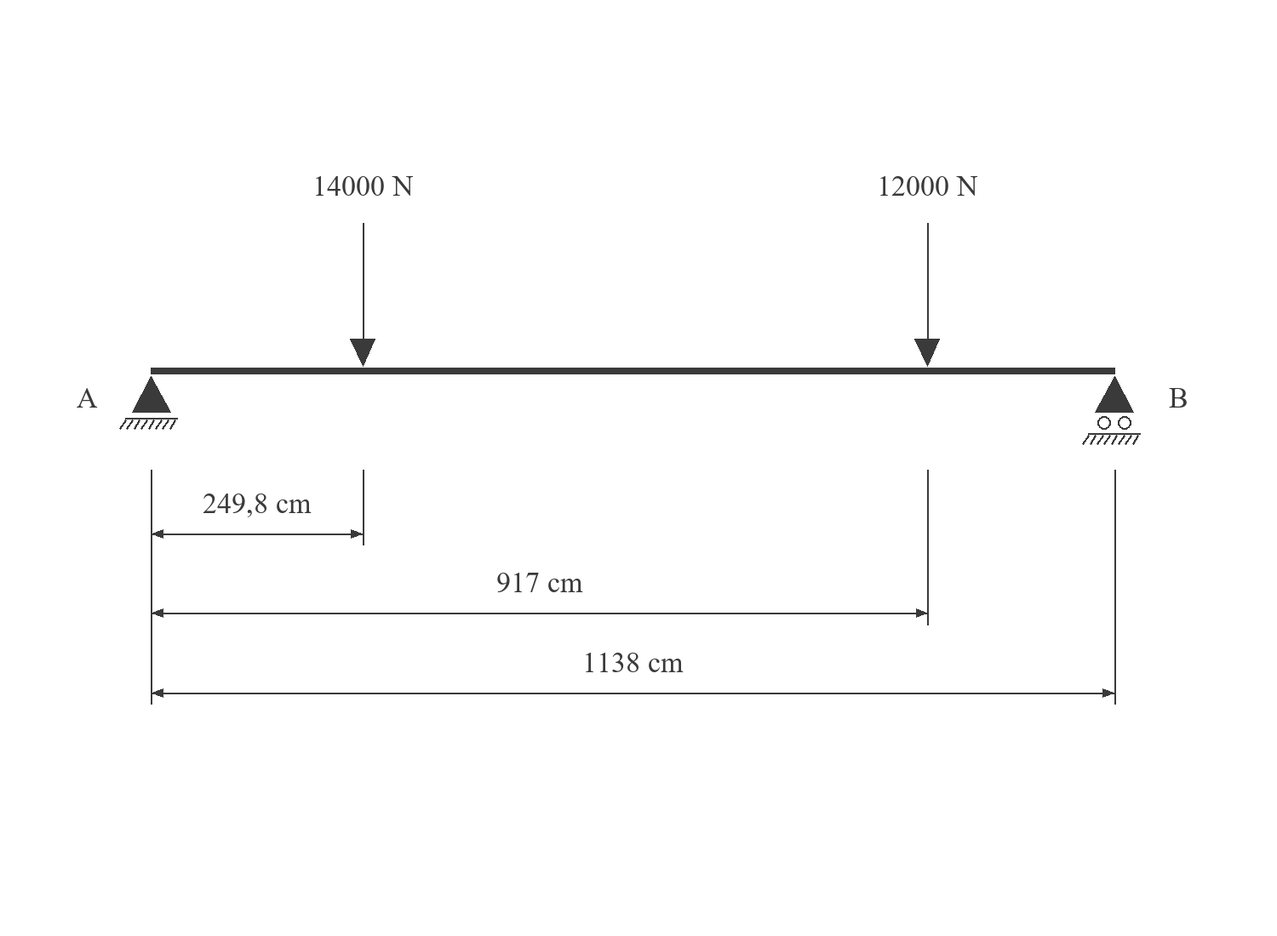pin_support: (119, 376, 178, 430)
point_load: (914, 223, 940, 367), (350, 223, 375, 367)
roller_support: (1082, 376, 1141, 445)
